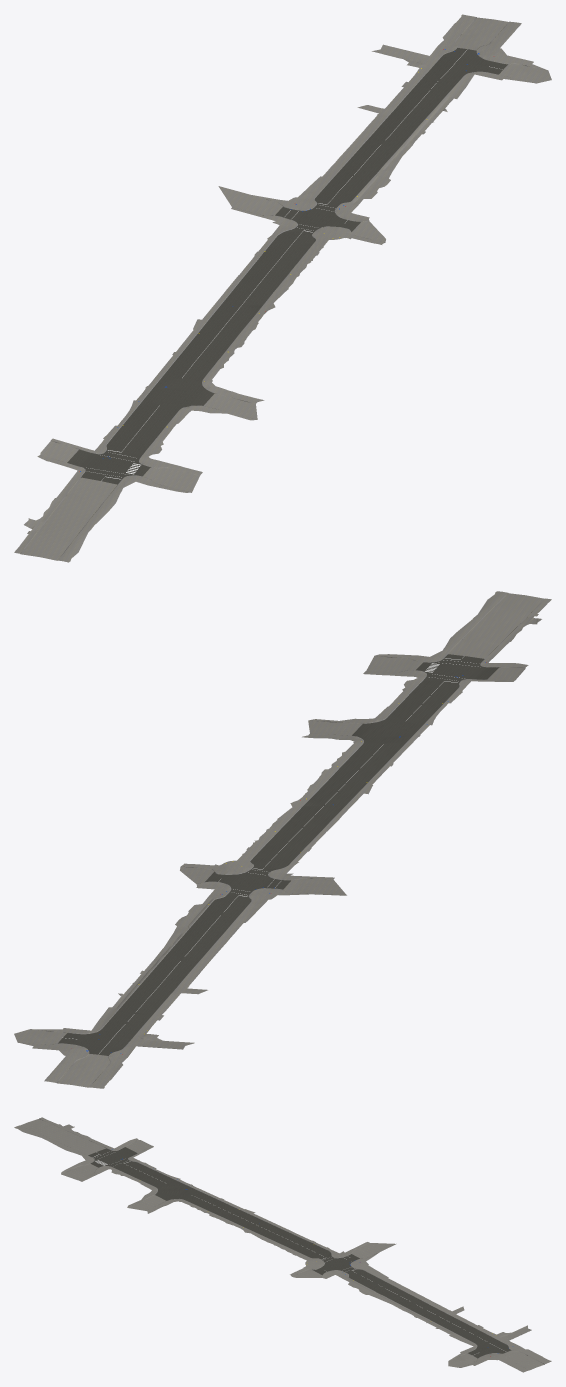
File: ground.fbx
3 views of the same model, one above another, from view 1: azimuth 30°, elevation 25°; view 2: azimuth 210°, elevation 25°; view 3: azimuth 270°, elevation 25° (orthographic). The views are drawn at different scales.
Visible parts, largest first — view 1: Mesh 2, Mesh 4, Mesh 5, Mesh 3, Mesh 1; view 2: Mesh 2, Mesh 4, Mesh 5, Mesh 3, Mesh 1; view 3: Mesh 2, Mesh 4, Mesh 5, Mesh 3, Mesh 1.
Part boxes in pixels (x1,y1,x2,y2): Mesh 2: (67,48,507,484); Mesh 4: (41,31,529,504); Mesh 5: (65,44,514,485); Mesh 3: (14,14,551,562); Mesh 1: (67,48,508,483); Mesh 2: (58,654,498,1055); Mesh 4: (36,637,524,1071); Mesh 5: (52,652,500,1058); Mesh 3: (14,591,551,1088); Mesh 1: (58,653,487,1055); Mesh 2: (88,1147,511,1358); Mesh 4: (66,1139,534,1364); Mesh 5: (84,1145,520,1361); Mesh 3: (14,1117,551,1372); Mesh 1: (89,1147,510,1358).
Size of the model in its own units: 359 by 302 by 13.82.
7 materials, 7 textured.
